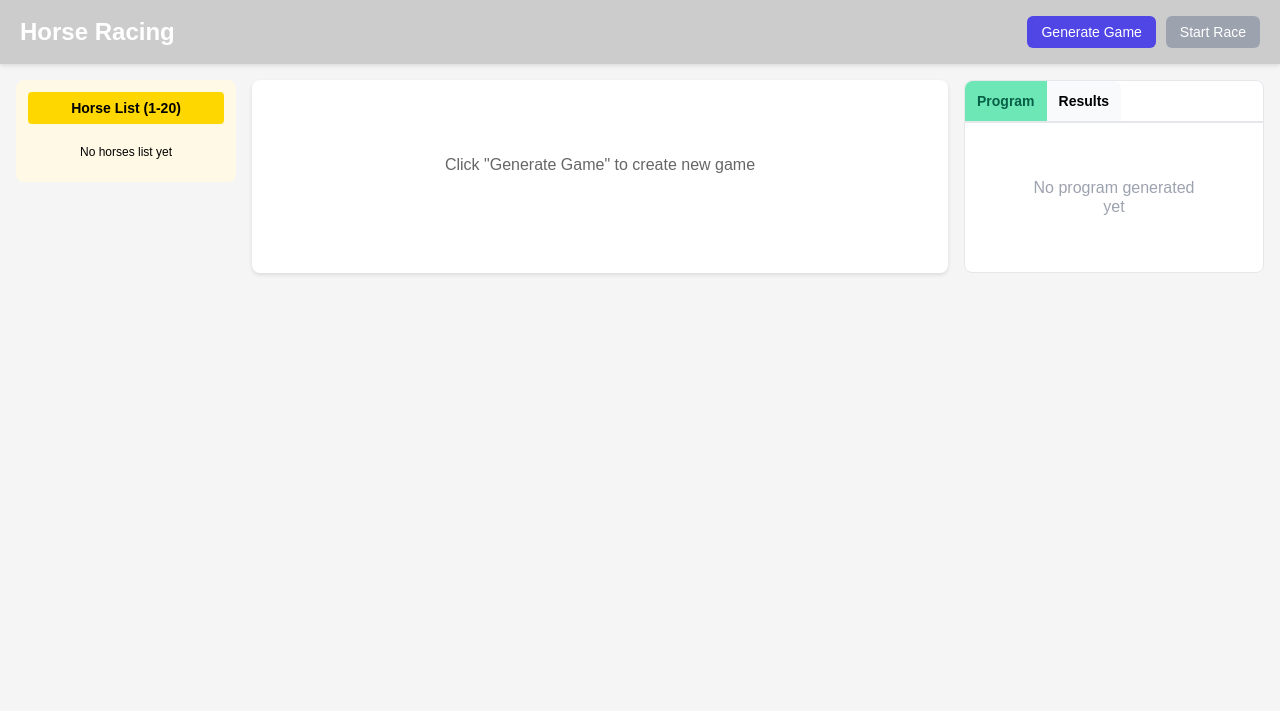
Test: Horse Racing Game › should show correct number of lanes per round
Click the button "Generate Game". click: (1092, 32)
box: [1028,16,1156,48]
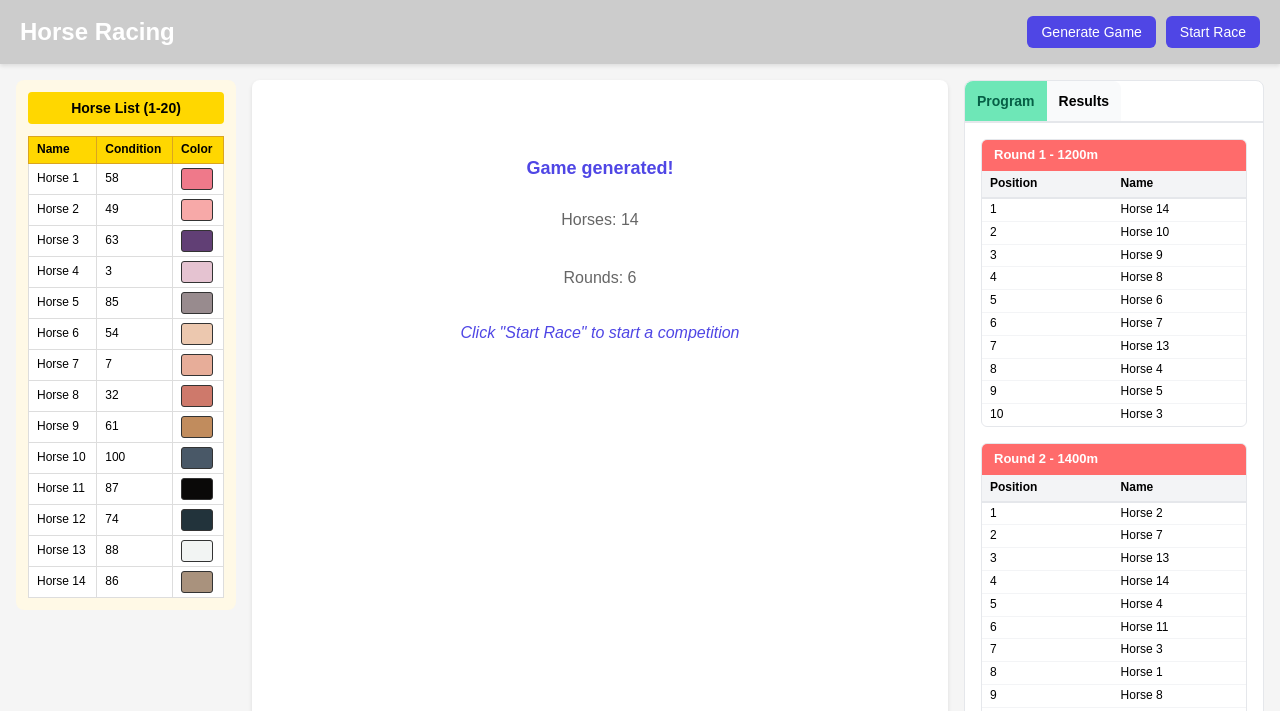
Click the button "Start Race". click: (1213, 32)
box: [1166,16,1260,48]
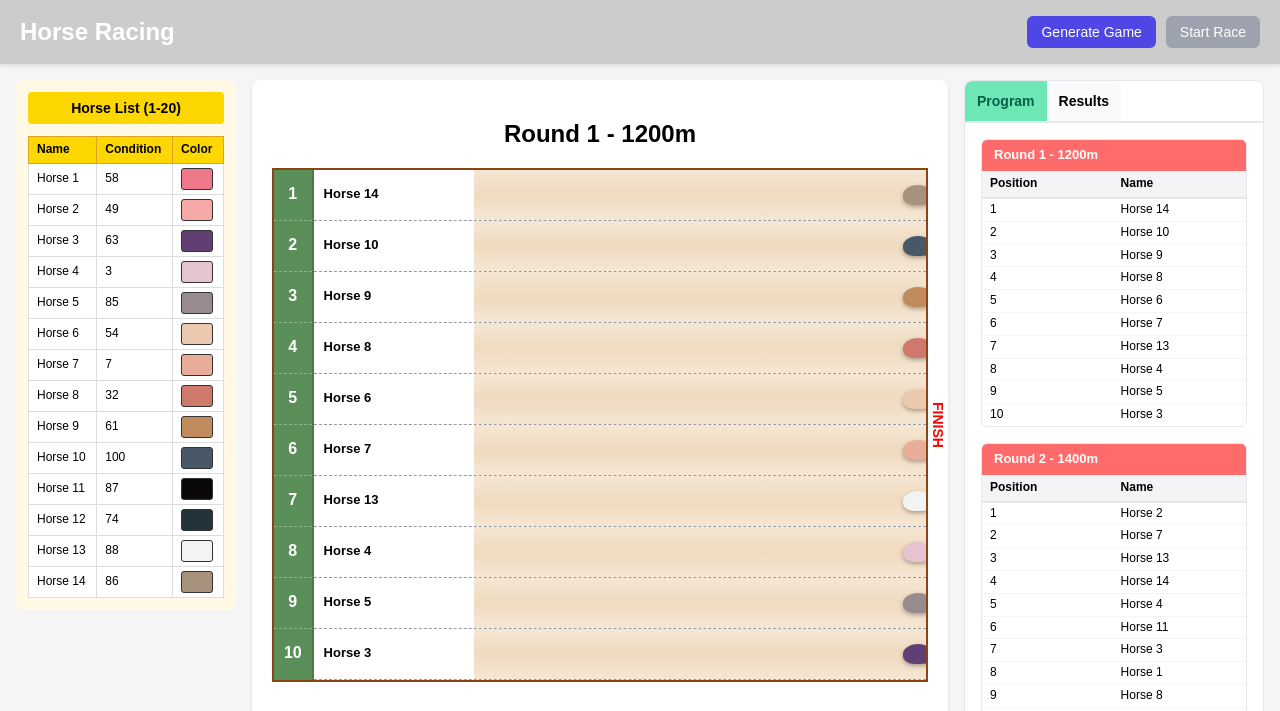
Now the number of elements with class "lane" is 10
Now the number of elements with class "lane-number" is 10
